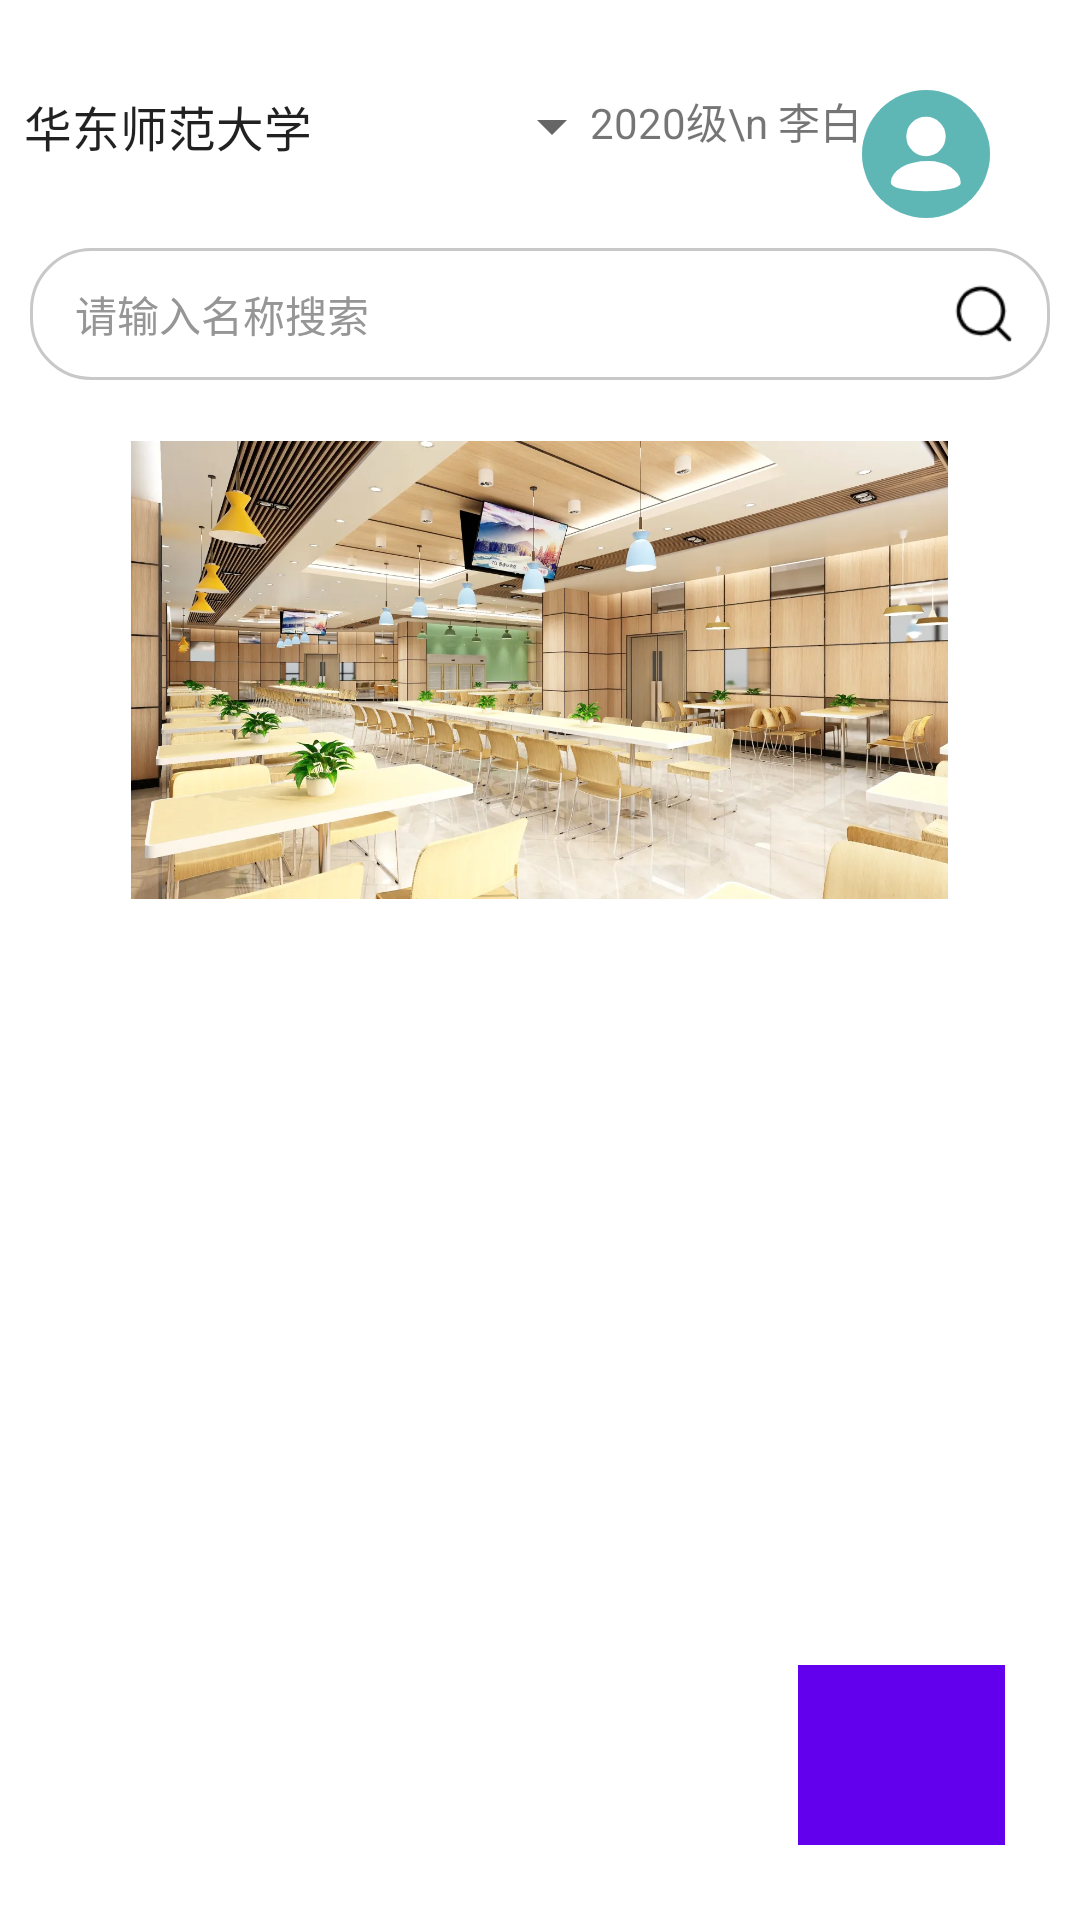

Point at icon controls on the screen. Image size 1080w x 1920h, points as point (x, y).
seach: point (983, 313)
